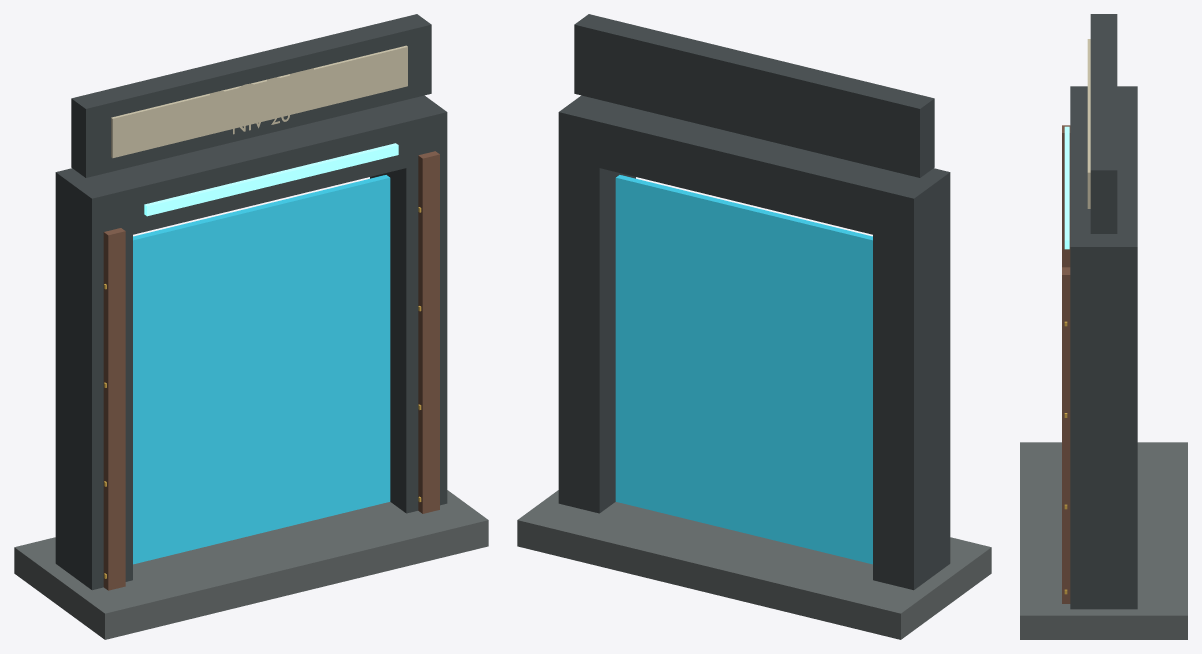
File: Refuge_Portal_03_Port_Niv20.fbx
3 renders of one model, left to right at view 1: azimuth 30°, elevation 25°; view 2: azimuth 150°, elevation 25°; view 3: azimuth 270°, elevation 25°, orthographic. The views are drawn at different scales.
Visible parts, largest first — view 1: Refuge_Portal_03_Port_Niv20_portal, Refuge_Portal_03_Port_Niv20_iron, Refuge_Portal_03_Port_Niv20_concrete_dark, Refuge_Portal_03_Port_Niv20_rust, Refuge_Portal_03_Port_Niv20_paint, Refuge_Portal_03_Port_Niv20_cyan, Refuge_Portal_03_Port_Niv20_label; view 2: Refuge_Portal_03_Port_Niv20_iron, Refuge_Portal_03_Port_Niv20_portal, Refuge_Portal_03_Port_Niv20_concrete_dark; view 3: Refuge_Portal_03_Port_Niv20_iron, Refuge_Portal_03_Port_Niv20_concrete_dark, Refuge_Portal_03_Port_Niv20_rust, Refuge_Portal_03_Port_Niv20_cyan, Refuge_Portal_03_Port_Niv20_paint.
Part boxes in pixels (x1=…): Refuge_Portal_03_Port_Niv20_portal: x1=133, y1=175, x2=390, y2=564; Refuge_Portal_03_Port_Niv20_iron: x1=55, y1=14, x2=447, y2=590; Refuge_Portal_03_Port_Niv20_concrete_dark: x1=14, y1=490, x2=488, y2=639; Refuge_Portal_03_Port_Niv20_rust: x1=103, y1=151, x2=439, y2=590; Refuge_Portal_03_Port_Niv20_paint: x1=111, y1=45, x2=407, y2=158; Refuge_Portal_03_Port_Niv20_cyan: x1=144, y1=143, x2=398, y2=216; Refuge_Portal_03_Port_Niv20_label: x1=210, y1=68, x2=313, y2=123; Refuge_Portal_03_Port_Niv20_iron: x1=558, y1=14, x2=950, y2=590; Refuge_Portal_03_Port_Niv20_portal: x1=615, y1=175, x2=872, y2=564; Refuge_Portal_03_Port_Niv20_concrete_dark: x1=517, y1=490, x2=991, y2=639; Refuge_Portal_03_Port_Niv20_iron: x1=1070, y1=14, x2=1137, y2=609; Refuge_Portal_03_Port_Niv20_concrete_dark: x1=1020, y1=442, x2=1187, y2=639; Refuge_Portal_03_Port_Niv20_rust: x1=1062, y1=125, x2=1070, y2=603; Refuge_Portal_03_Port_Niv20_cyan: x1=1064, y1=126, x2=1069, y2=249; Refuge_Portal_03_Port_Niv20_paint: x1=1087, y1=39, x2=1090, y2=208.
Size of the model in its own units: 12.2 by 15.15 by 5.
